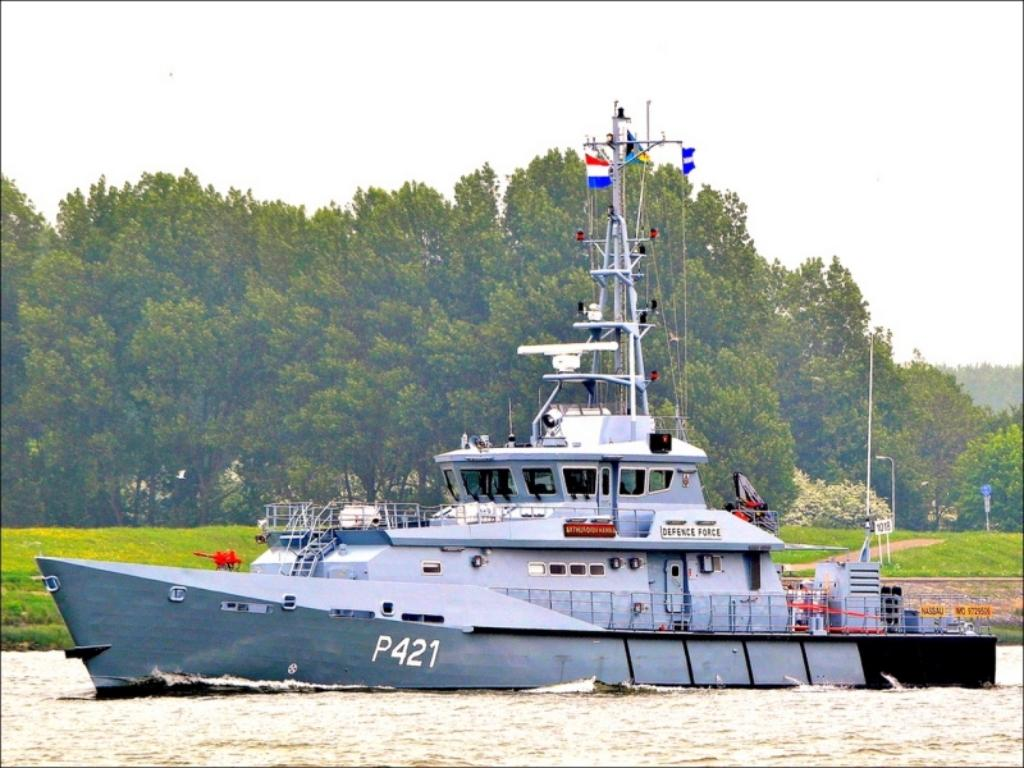Warship: (28, 94, 1010, 690)
